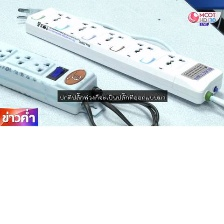three_eye_plug: (22, 5, 223, 107), (0, 39, 100, 118)
